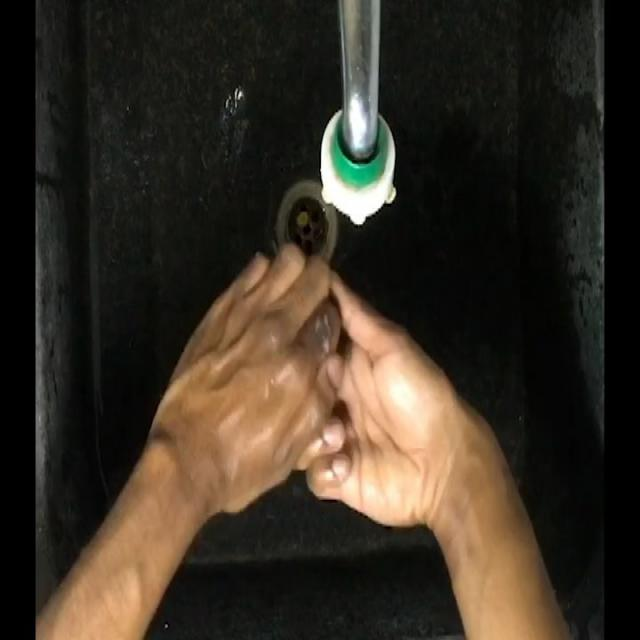step_4: (170, 248, 436, 534)
